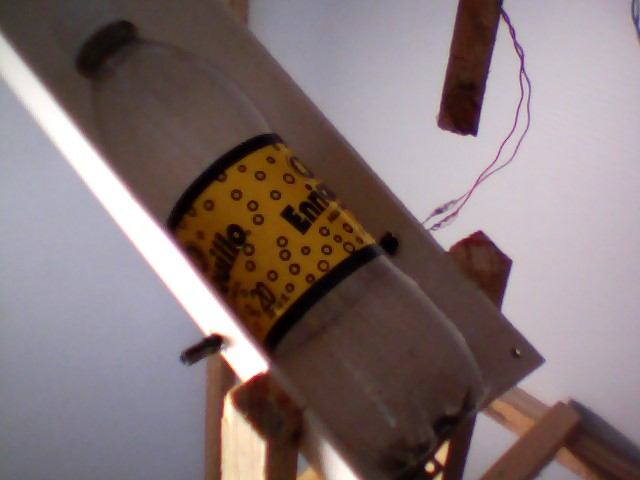plastico: (46, 1, 491, 477)
